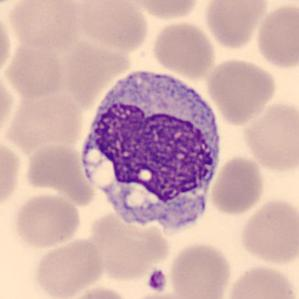Monocyte: (74, 62, 227, 237)
Platelets: (149, 270, 170, 294)
RBC: (83, 208, 171, 282), (1, 83, 85, 151), (22, 140, 97, 210), (205, 56, 279, 125), (33, 236, 106, 298), (2, 34, 68, 99), (241, 99, 298, 173), (238, 196, 298, 266), (12, 191, 83, 250), (150, 19, 217, 78), (73, 0, 150, 51), (168, 241, 235, 299), (6, 0, 83, 50), (208, 154, 266, 216), (202, 0, 269, 50), (254, 1, 298, 70), (223, 261, 298, 299), (0, 137, 23, 214), (123, 0, 203, 21), (0, 68, 15, 143), (58, 285, 134, 299), (0, 5, 14, 80), (0, 0, 31, 9)
